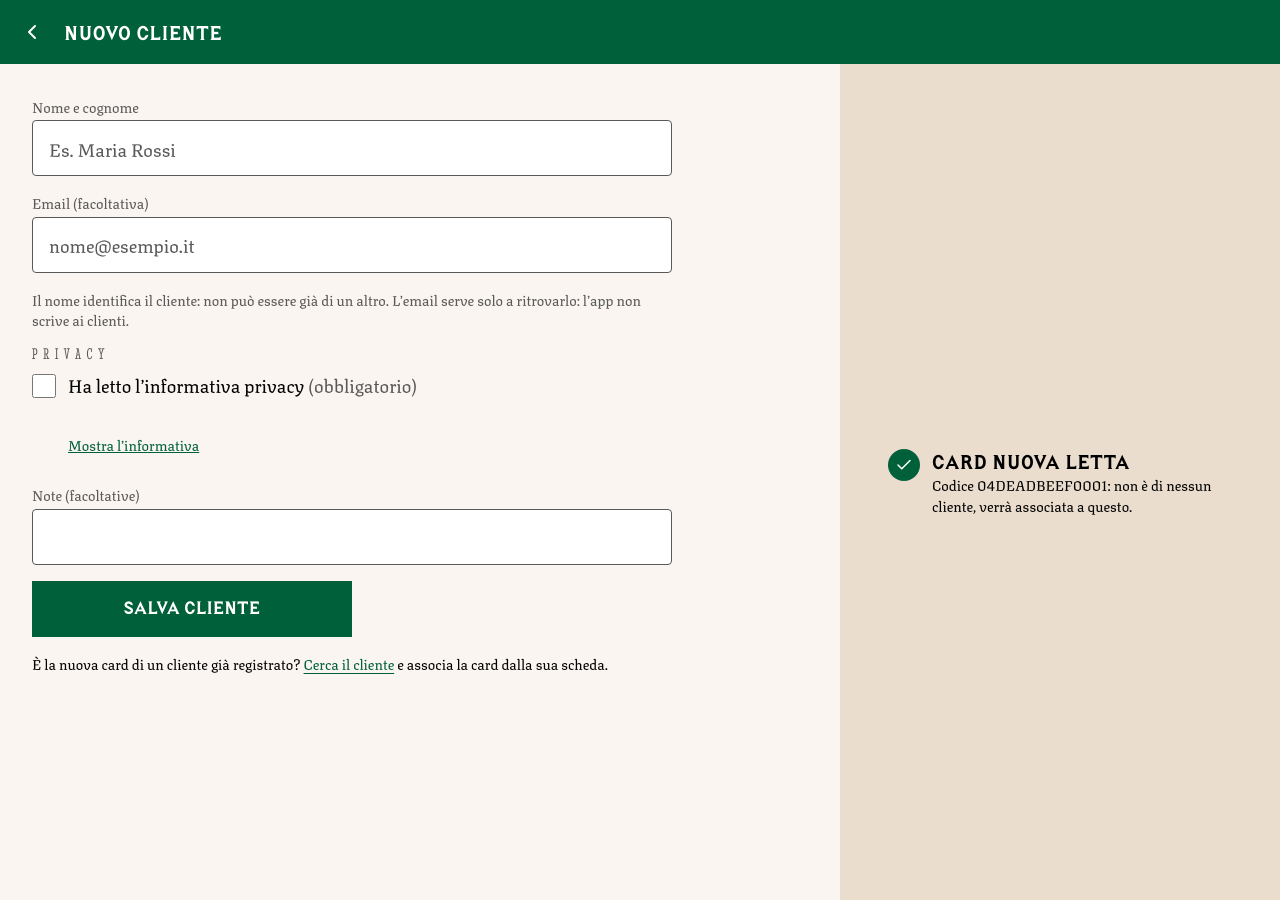
Nuovo cliente: the link written after the save (SPEC-cards, points 2, 3 and 8) › the card saved does not load: «Riprova» loads it again and the write starts
Later steps or results of the test are not shown.
Type "Giulia Bianchi" into the field labelled "Nome e cognome" at [352, 148], box [32,120,672,176]
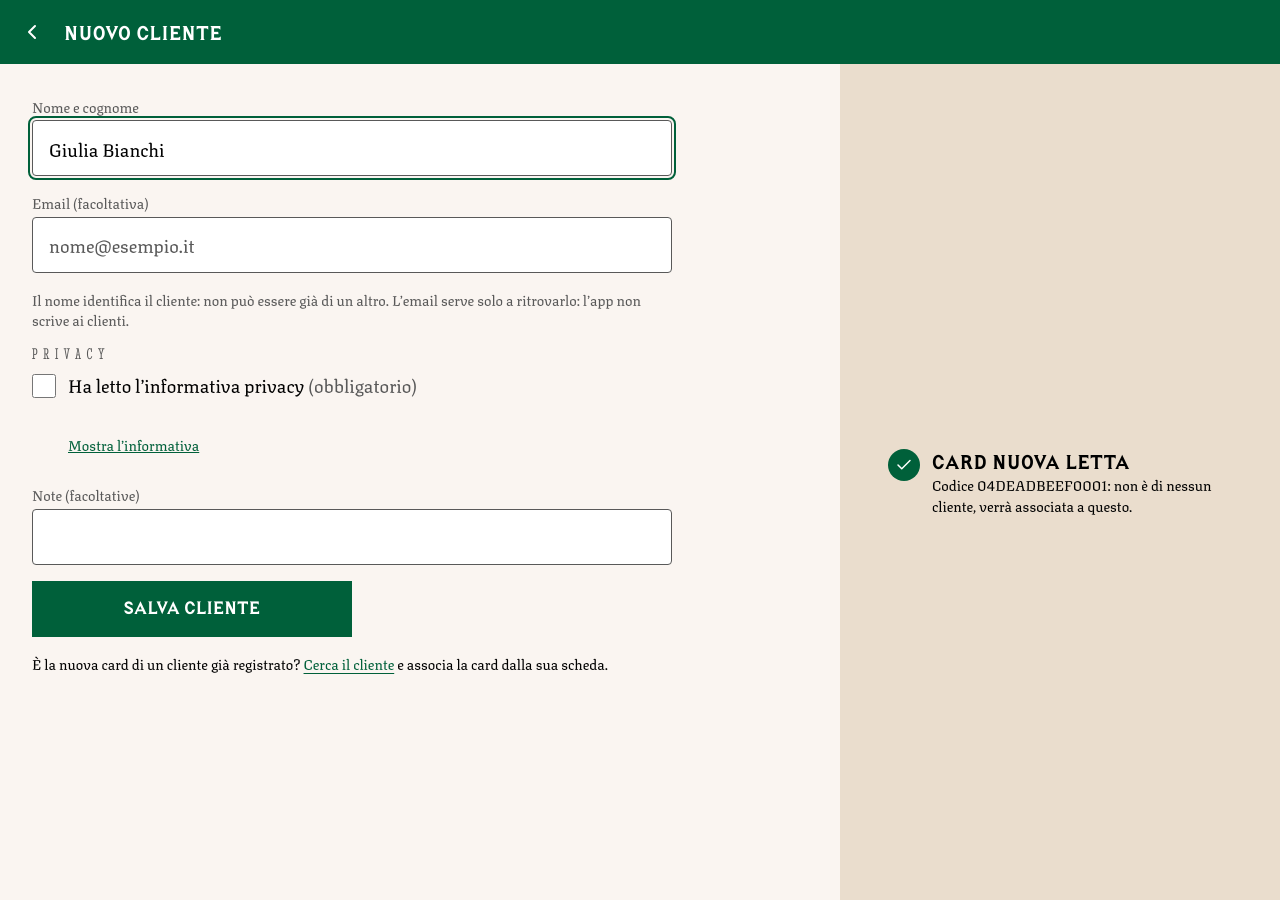
Type "giulia@example.com" into the field labelled "Email (facoltativa)" at [352, 245], box [32,217,672,273]
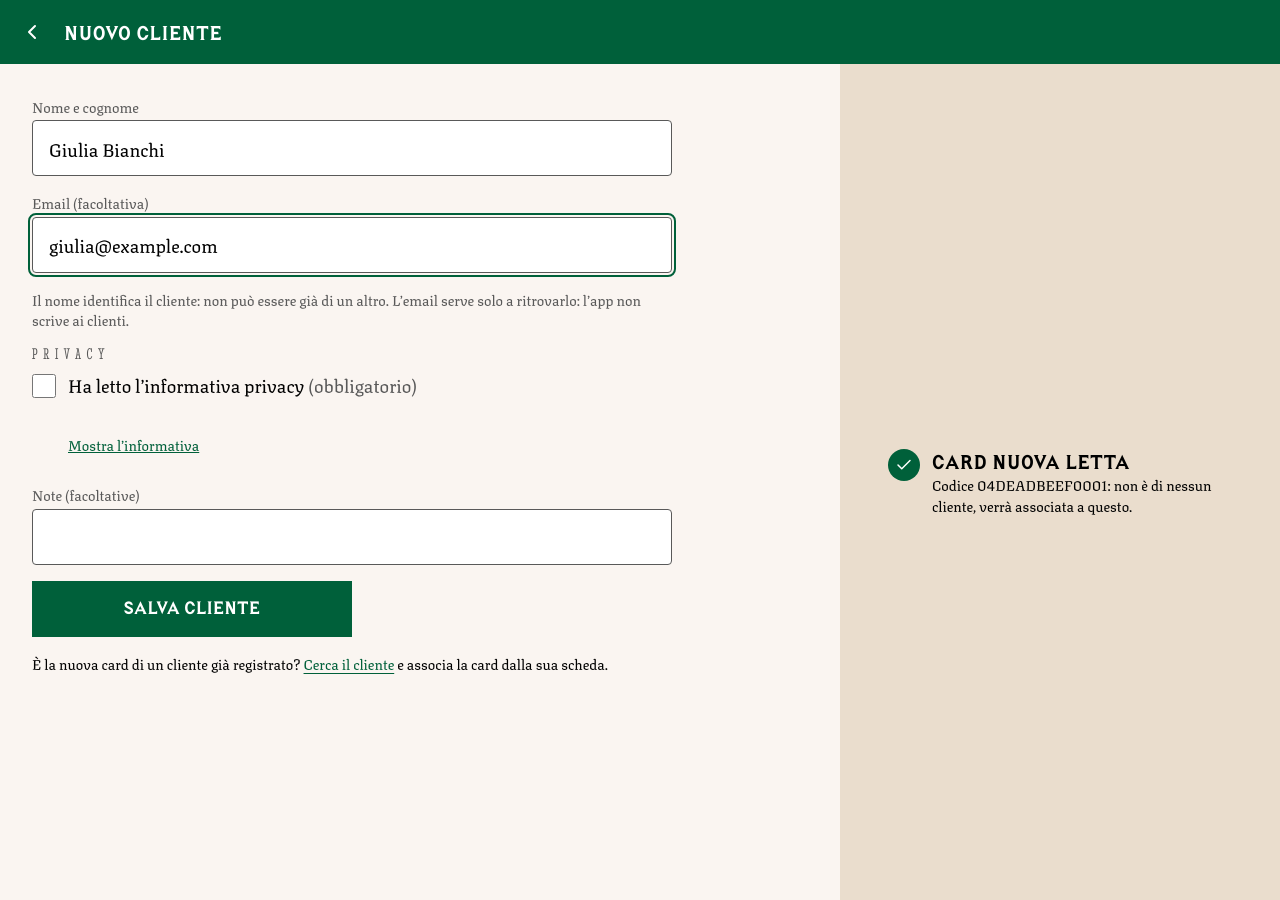
Click the checkbox labelled "Ha letto l’informativa privacy (obbligatorio)" at [44, 386], box [32,374,56,398]
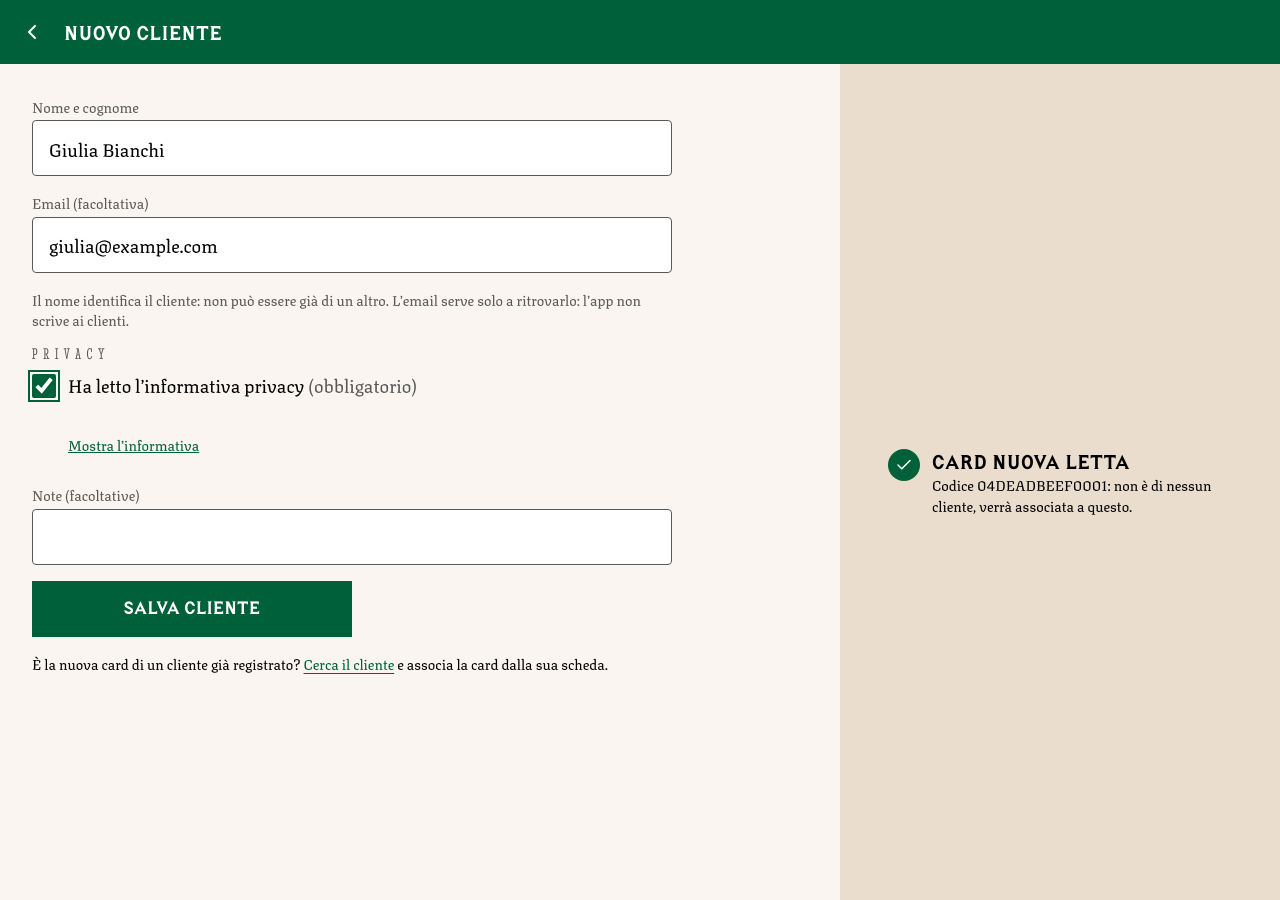
Click the button "Salva cliente" at [192, 609], box [32,581,352,637]
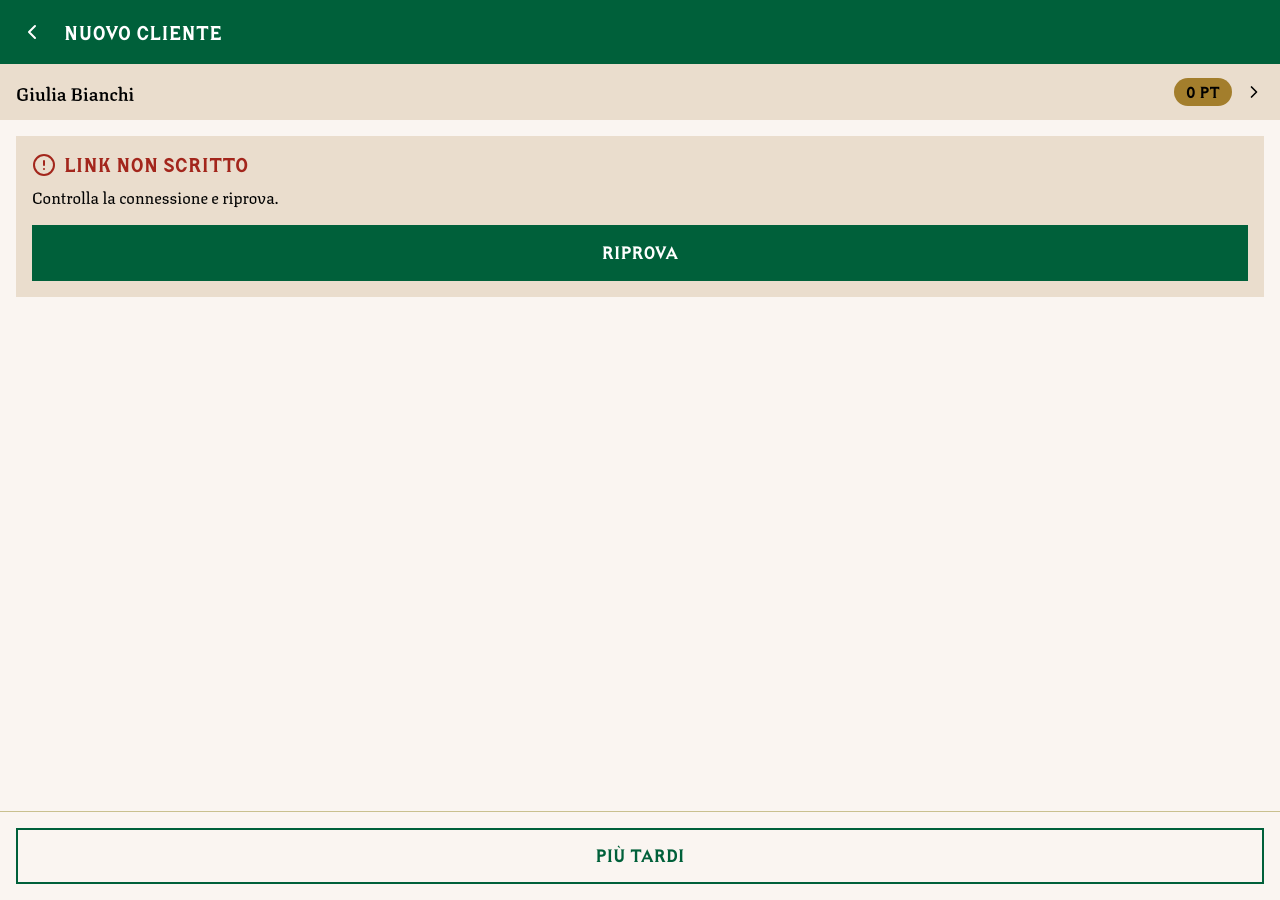
Check: the message shows "Link non scritto", box [64,153,248,176]
Check: the message shows "Controlla la connessione e riprova.", box [32,184,278,209]
Check: the button "Più tardi" is shown, box [16,828,1264,884]
